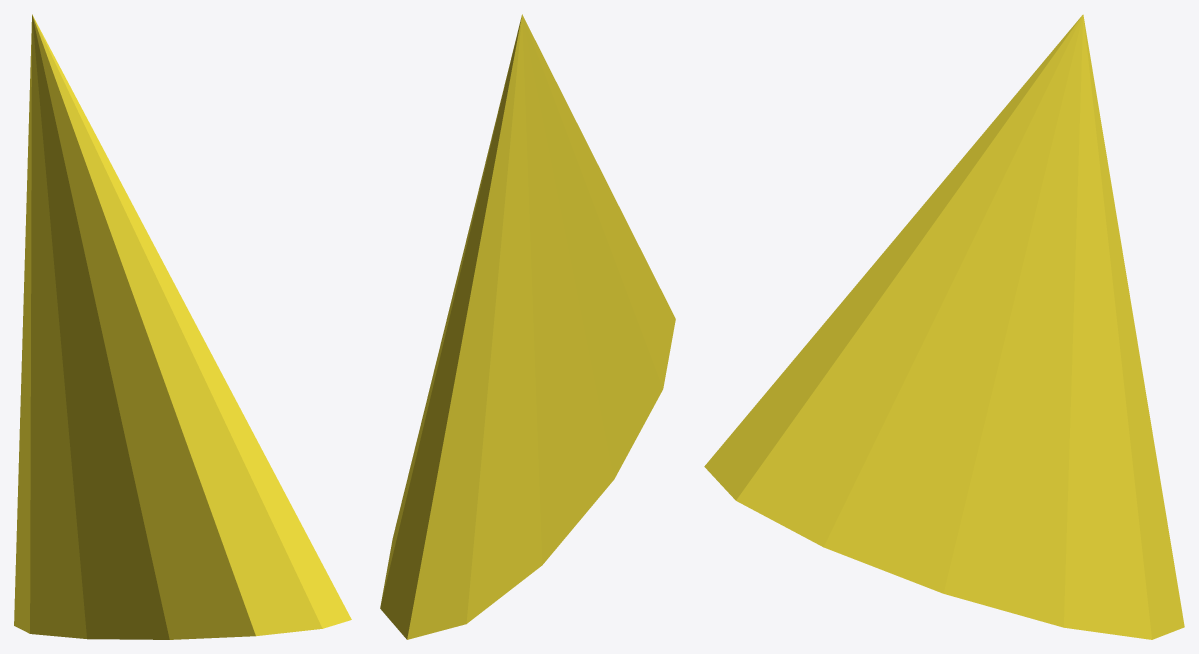
File: n5_n5_group715979619_lev5.glb
The picture shows the model from 3 angles, left to right: view 1: azimuth 30°, elevation 25°; view 2: azimuth 150°, elevation 25°; view 3: azimuth 270°, elevation 25°; orthographic projection. The views are drawn at different scales.
Parts seen in each view (by area): view 1: n5_n5_group715979619_lev5; view 2: n5_n5_group715979619_lev5; view 3: n5_n5_group715979619_lev5.
Boxes of the visible parts, bbox=[...] form: n5_n5_group715979619_lev5: bbox=[14, 14, 351, 639]; n5_n5_group715979619_lev5: bbox=[380, 14, 675, 639]; n5_n5_group715979619_lev5: bbox=[704, 14, 1184, 639].
Bounding box in the file's own units: 0.3926 × 1.3 × 0.9708.
